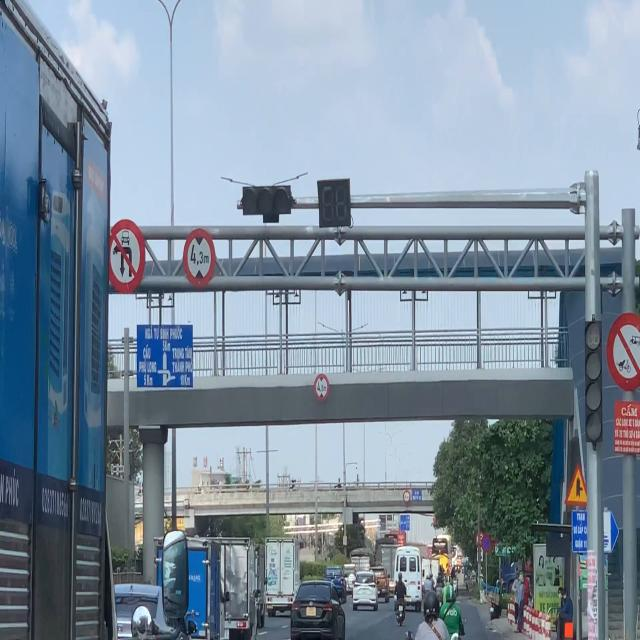Cam con lai: (108, 218, 145, 292), (606, 312, 640, 389)
Cam dung va do: (480, 533, 490, 554)
Chieu cao toi da: (184, 228, 213, 284), (313, 371, 331, 402)
Giao voi duong khong uu tien: (564, 462, 590, 508)
